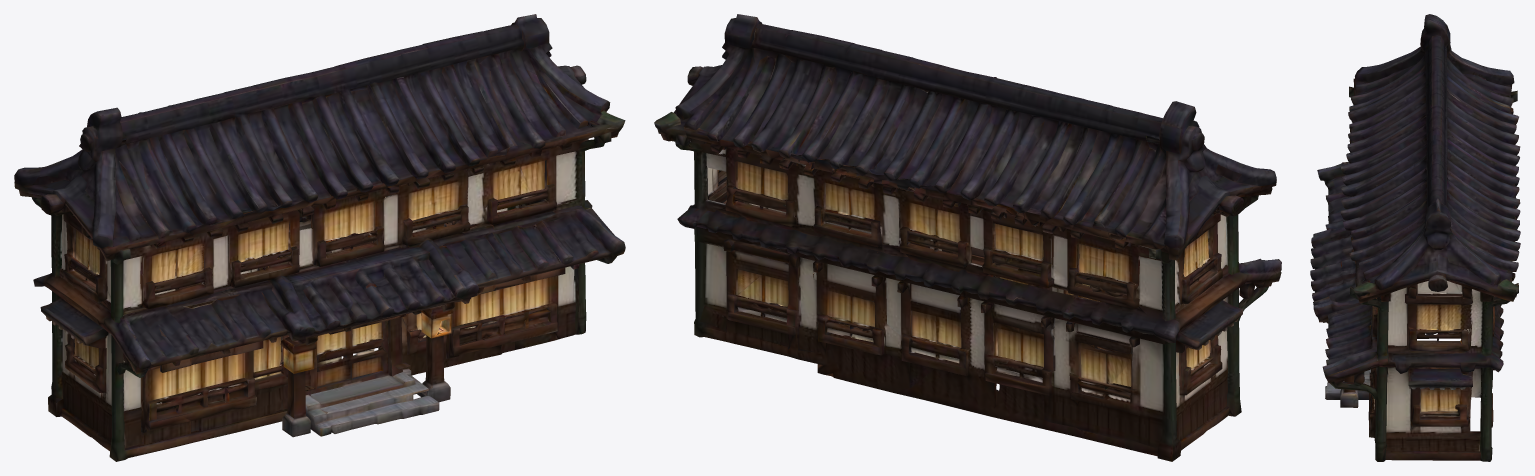
3 views of the same model, side by side, from view 1: azimuth 30°, elevation 25°; view 2: azimuth 150°, elevation 25°; view 3: azimuth 270°, elevation 25° (orthographic). The views are drawn at different scales.
Parts seen in each view (by area): view 1: compact__skyscraper_1__native_mobile; view 2: compact__skyscraper_1__native_mobile; view 3: compact__skyscraper_1__native_mobile.
Part boxes in pixels (<box>): compact__skyscraper_1__native_mobile: <box>14,14,625,461</box>; compact__skyscraper_1__native_mobile: <box>654,14,1281,461</box>; compact__skyscraper_1__native_mobile: <box>1310,14,1520,461</box>.
Bounding box in the file's own units: 1 × 0.5729 × 0.4024.
Materials: 1 (1 with a texture image).
